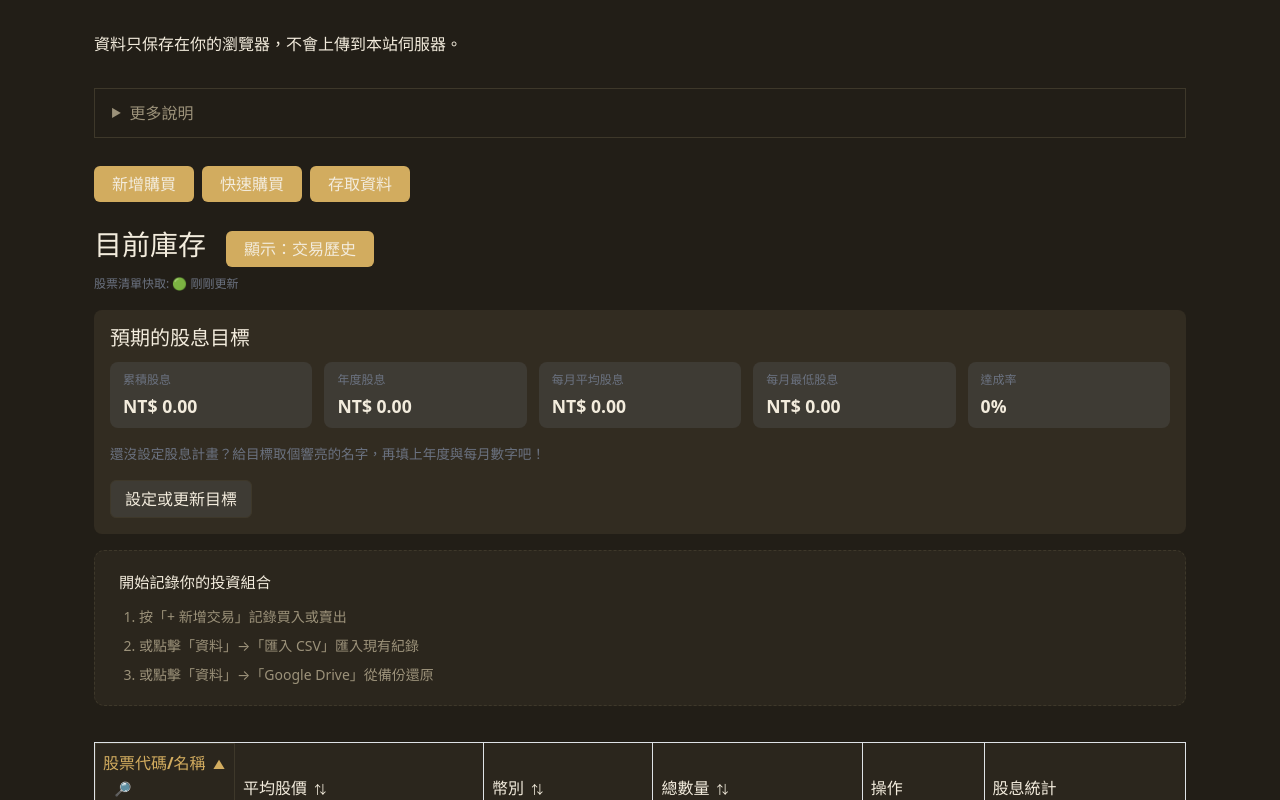
InventoryTab interactions › empty state: TransactionHistoryTable is absent, emptyGuide is present
Click the button "顯示：交易歷史" at coordinates (300, 249), box left=226, top=231, right=374, bottom=267
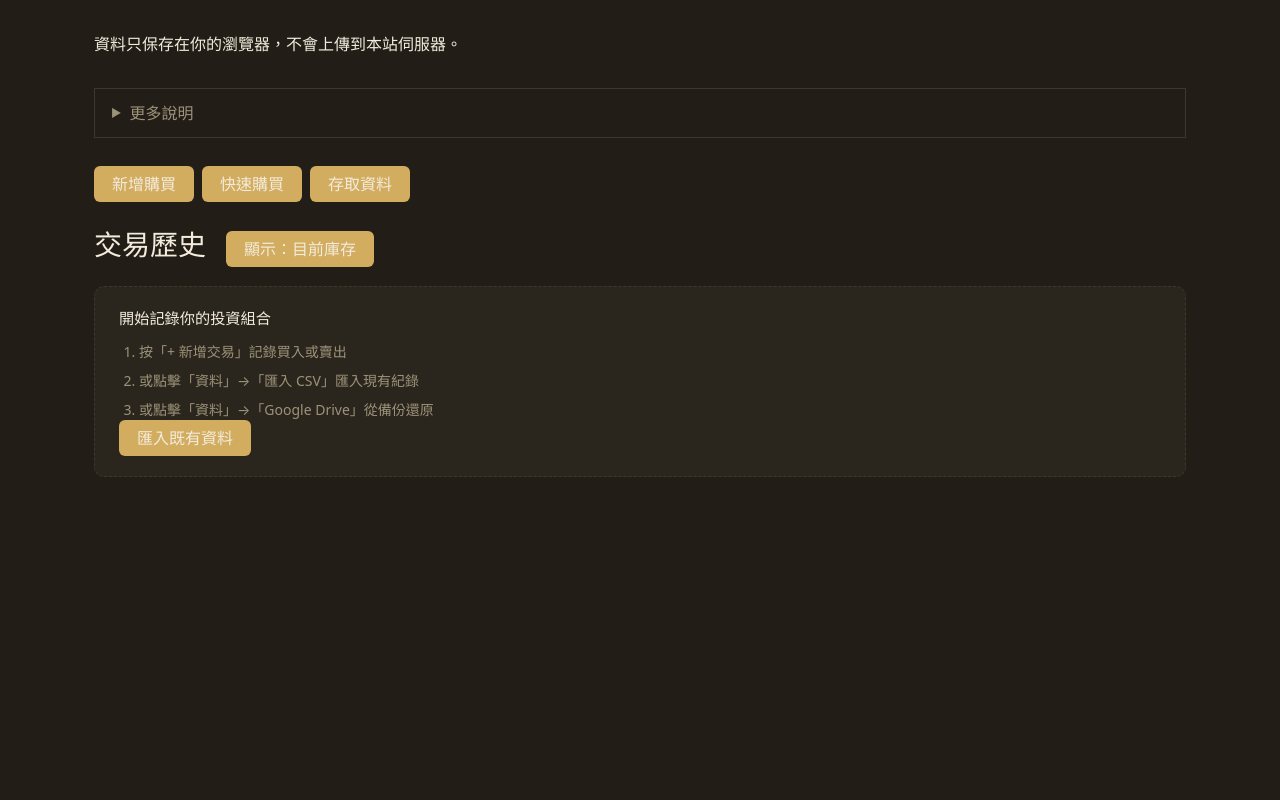
expect the element "開始記錄你的投資組合" is shown: met, box left=94, top=286, right=1186, bottom=477
